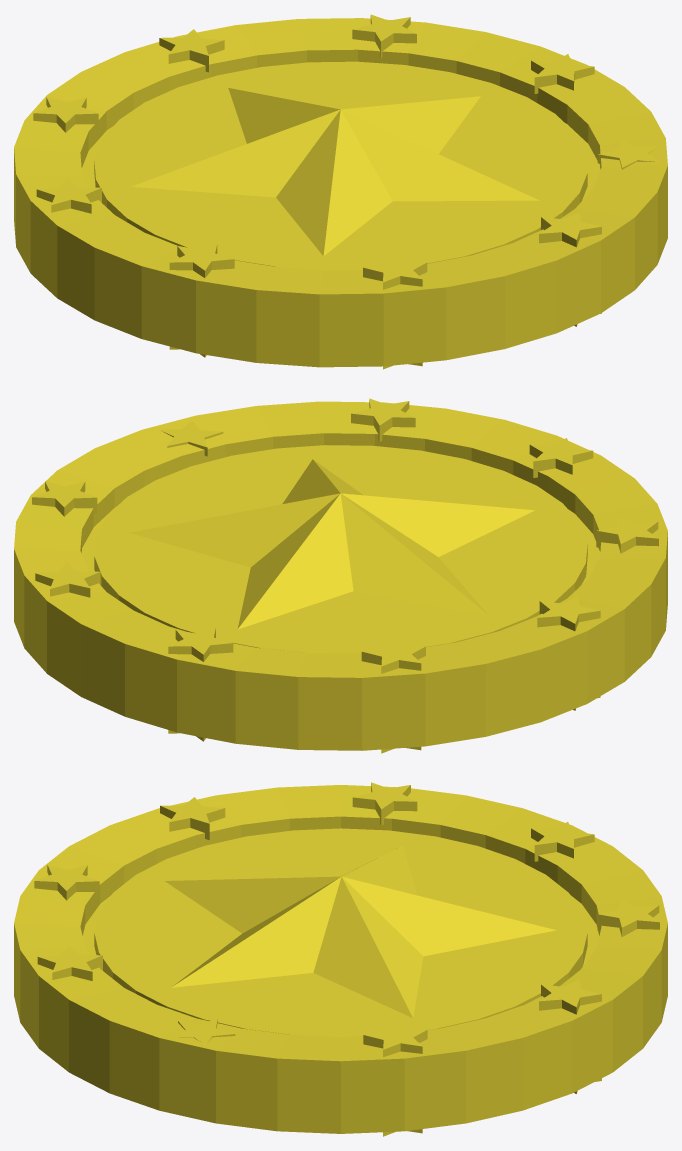
Rendered from Big_coin.fbx.
3 views of the same model, one above another, from view 1: azimuth 30°, elevation 25°; view 2: azimuth 150°, elevation 25°; view 3: azimuth 270°, elevation 25° (orthographic).
Parts seen in each view (by area): view 1: Big_coin; view 2: Big_coin; view 3: Big_coin.
Boxes of the visible parts, x1,y1,x2,y2 form: Big_coin: (14, 14, 667, 369); Big_coin: (14, 398, 667, 753); Big_coin: (14, 782, 667, 1136).
Size of the model in its own units: 200 by 55.93 by 200.
